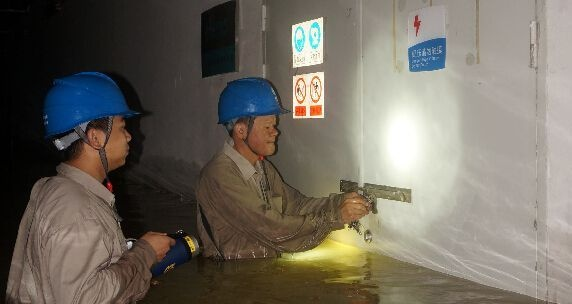blue: (43, 67, 136, 173), (215, 75, 285, 157)
